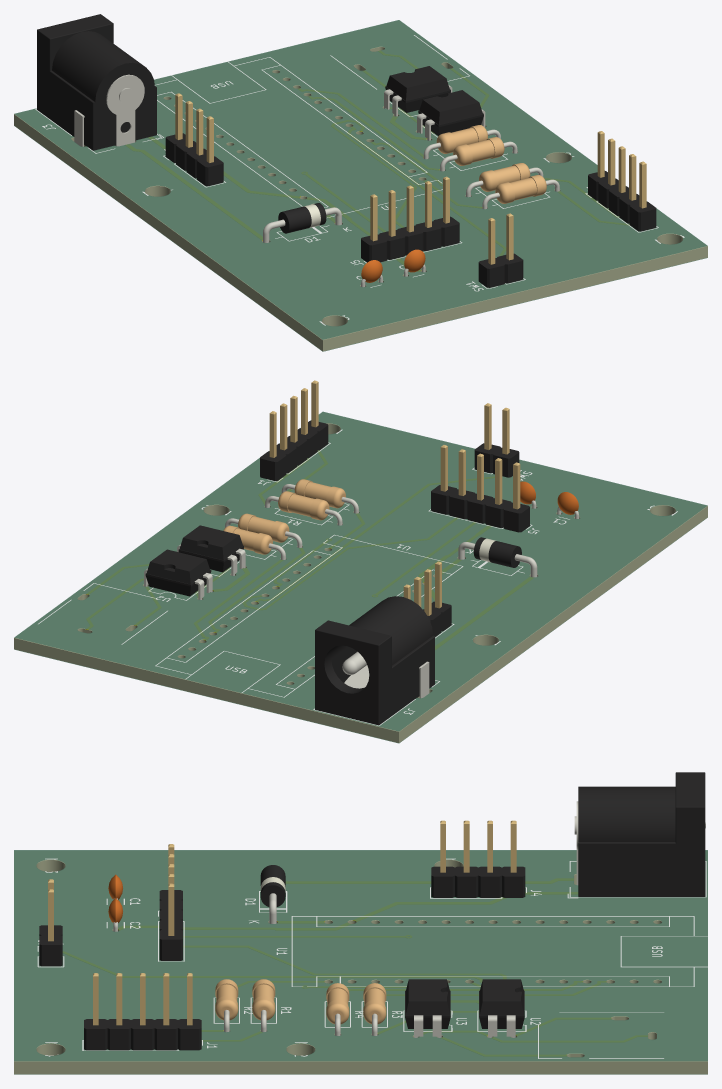
The model's file is pcb.glb.
3 renders of one model, top to bottom at view 1: azimuth 30°, elevation 25°; view 2: azimuth 150°, elevation 25°; view 3: azimuth 270°, elevation 25°, orthographic. The views are drawn at different scales.
Parts seen in each view (by area): view 1: =>[0:1:1:21], =>[0:1:1:23], =>[0:1:1:7], =>[0:1:1:11] (×2), =>[0:1:1:13] (×4), =>[0:1:1:3] (×2), =>[0:1:1:17], =>[0:1:1:18], =>[0:1:1:20], =>[0:1:1:9], =>[0:1:1:15], =>[0:1:1:22]; view 2: =>[0:1:1:23], =>[0:1:1:21], =>[0:1:1:7], =>[0:1:1:11] (×2), =>[0:1:1:3] (×2), =>[0:1:1:13] (×4), =>[0:1:1:18], =>[0:1:1:20], =>[0:1:1:9], =>[0:1:1:17], =>[0:1:1:15], =>[0:1:1:22]; view 3: =>[0:1:1:21], =>[0:1:1:23], =>[0:1:1:7], =>[0:1:1:11] (×2), =>[0:1:1:3] (×2), =>[0:1:1:20], =>[0:1:1:17], =>[0:1:1:13] (×4), =>[0:1:1:18], =>[0:1:1:9], =>[0:1:1:15], =>[0:1:1:22].
Boxes of the visible parts, <box> form: =>[0:1:1:21]: <box>14,20,707,339</box>; =>[0:1:1:23]: <box>14,21,707,351</box>; =>[0:1:1:7]: <box>37,14,156,150</box>; =>[0:1:1:11] (×2): <box>361,131,656,262</box>; =>[0:1:1:13] (×4): <box>423,125,559,209</box>; =>[0:1:1:3] (×2): <box>384,66,485,140</box>; =>[0:1:1:17]: <box>165,93,223,186</box>; =>[0:1:1:18]: <box>126,51,626,271</box>; =>[0:1:1:20]: <box>35,35,684,325</box>; =>[0:1:1:9]: <box>478,213,523,287</box>; =>[0:1:1:15]: <box>263,203,341,242</box>; =>[0:1:1:22]: <box>14,125,707,351</box>; =>[0:1:1:23]: <box>14,412,707,742</box>; =>[0:1:1:21]: <box>14,411,707,731</box>; =>[0:1:1:7]: <box>315,596,434,725</box>; =>[0:1:1:11] (×2): <box>260,380,529,532</box>; =>[0:1:1:3] (×2): <box>144,525,245,599</box>; =>[0:1:1:13] (×4): <box>223,479,358,559</box>; =>[0:1:1:18]: <box>86,452,532,649</box>; =>[0:1:1:20]: <box>38,429,677,725</box>; =>[0:1:1:9]: <box>474,403,519,477</box>; =>[0:1:1:17]: <box>403,561,451,636</box>; =>[0:1:1:15]: <box>458,537,537,577</box>; =>[0:1:1:22]: <box>14,517,707,743</box>; =>[0:1:1:21]: <box>14,850,707,1061</box>; =>[0:1:1:23]: <box>14,851,707,1074</box>; =>[0:1:1:7]: <box>574,772,705,896</box>; =>[0:1:1:11] (×2): <box>84,844,201,1050</box>; =>[0:1:1:3] (×2): <box>405,979,524,1037</box>; =>[0:1:1:20]: <box>37,858,707,1058</box>; =>[0:1:1:17]: <box>431,820,525,897</box>; =>[0:1:1:13] (×4): <box>215,979,386,1035</box>; =>[0:1:1:18]: <box>63,879,647,1055</box>; =>[0:1:1:9]: <box>39,879,62,966</box>; =>[0:1:1:15]: <box>260,865,285,923</box>; =>[0:1:1:22]: <box>14,1074,707,1074</box>.
Bounding box in the file's own units: 0.054 × 0.0146 × 0.075.
